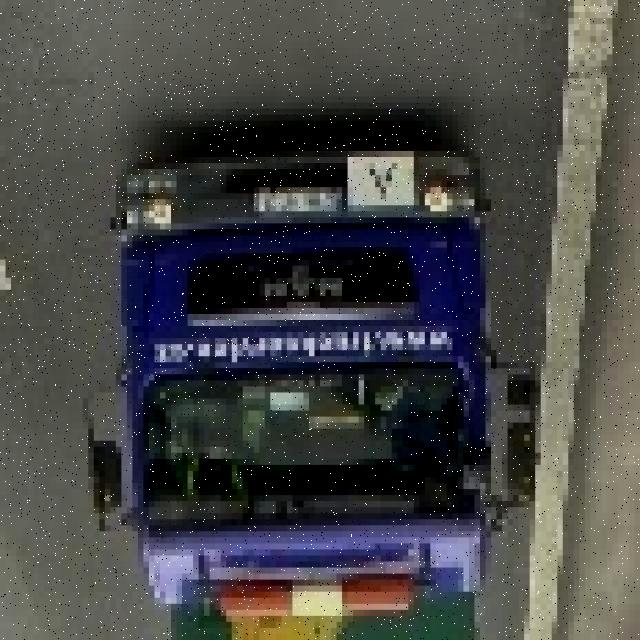truck: (82, 133, 536, 640)
